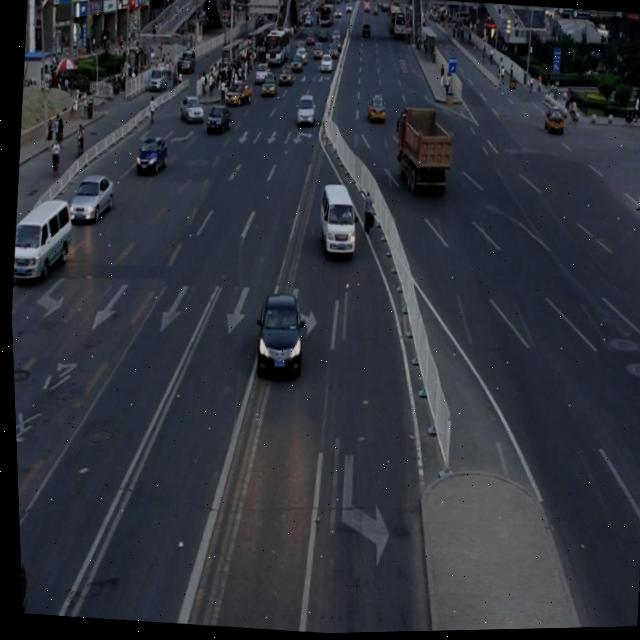bus: (389, 106, 455, 200)
car: (250, 290, 303, 379), (66, 170, 115, 223), (132, 133, 168, 176), (16, 549, 25, 613)
truck: (8, 193, 73, 283), (313, 181, 358, 258)
